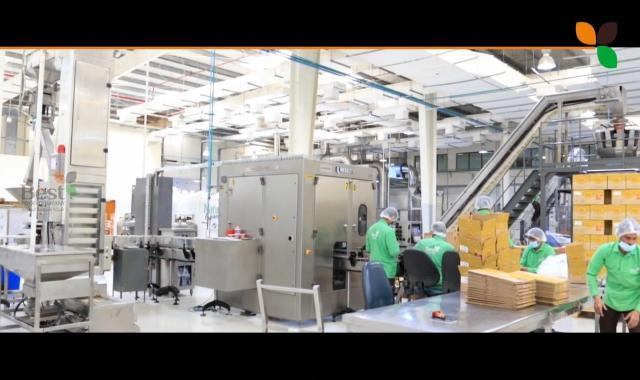Hairnet: (616, 218, 640, 235), (380, 203, 400, 220), (527, 228, 549, 241), (475, 196, 493, 210), (431, 221, 447, 236)
Mask: (620, 239, 636, 251), (525, 242, 543, 248)
No_Apron: (600, 245, 640, 311), (367, 226, 398, 274), (421, 241, 449, 280), (526, 249, 555, 273)
No_Glove: (624, 310, 640, 329), (594, 296, 605, 316)
